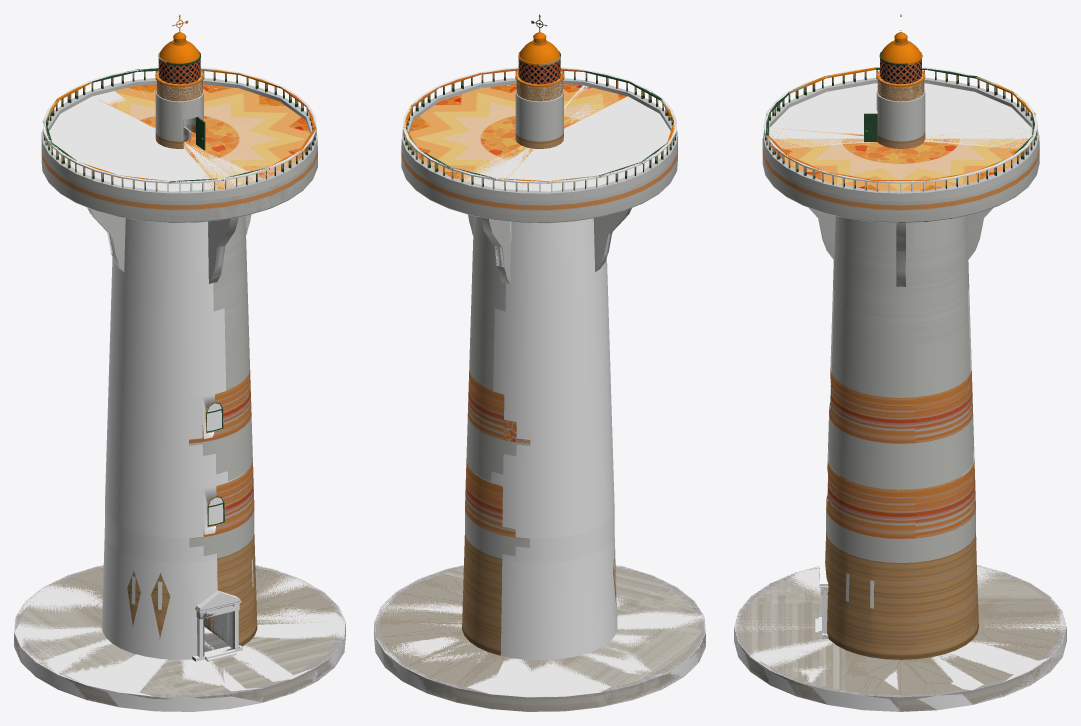
The model's file is objects_un_lighthouse03.gltf.
3 renders of one model, left to right at view 1: azimuth 30°, elevation 25°; view 2: azimuth 150°, elevation 25°; view 3: azimuth 270°, elevation 25°, orthographic.
Parts seen in each view (by area): view 1: um_objects_un_lighthouse03_model_lod0Shape:objects_un_lighth (×8), um_objects_un_lighthouse03_model_lod1Shape:objects_un_lighth (×3), um_objects_un_lighthouse03_model_lod2Shape:objects_un_lighth (×4), nomerge_objects_un_lighthouse03_top_shape:objects_un_lightho (×3), nomerge_lenslight_model_shape:objects_un_lighthouse03_obj01_; view 2: um_objects_un_lighthouse03_model_lod0Shape:objects_un_lighth (×8), um_objects_un_lighthouse03_model_lod2Shape:objects_un_lighth (×4), um_objects_un_lighthouse03_model_lod1Shape:objects_un_lighth (×3), nomerge_objects_un_lighthouse03_top_shape:objects_un_lightho (×3), nomerge_lenslight_model_shape:objects_un_lighthouse03_obj01_; view 3: um_objects_un_lighthouse03_model_lod0Shape:objects_un_lighth (×8), um_objects_un_lighthouse03_model_lod1Shape:objects_un_lighth (×4), um_objects_un_lighthouse03_model_lod2Shape:objects_un_lighth (×4), nomerge_objects_un_lighthouse03_top_shape:objects_un_lightho (×3), nomerge_lenslight_model_shape:objects_un_lighthouse03_obj01_.
Part boxes in pixels (x1,y1,x2,y2): um_objects_un_lighthouse03_model_lod0Shape:objects_un_lighth (×8): (14, 22, 345, 711); um_objects_un_lighthouse03_model_lod1Shape:objects_un_lighth (×3): (20, 78, 330, 694); um_objects_un_lighthouse03_model_lod2Shape:objects_un_lighth (×4): (14, 68, 345, 699); nomerge_objects_un_lighthouse03_top_shape:objects_un_lightho (×3): (155, 14, 205, 150); nomerge_lenslight_model_shape:objects_un_lighthouse03_obj01_: (158, 59, 200, 84); um_objects_un_lighthouse03_model_lod0Shape:objects_un_lighth (×8): (374, 22, 705, 711); um_objects_un_lighthouse03_model_lod2Shape:objects_un_lighth (×4): (384, 68, 704, 693); um_objects_un_lighthouse03_model_lod1Shape:objects_un_lighth (×3): (380, 78, 698, 665); nomerge_objects_un_lighthouse03_top_shape:objects_un_lightho (×3): (515, 14, 563, 148); nomerge_lenslight_model_shape:objects_un_lighthouse03_obj01_: (518, 59, 560, 84); um_objects_un_lighthouse03_model_lod0Shape:objects_un_lighth (×8): (734, 67, 1066, 711); um_objects_un_lighthouse03_model_lod1Shape:objects_un_lighth (×4): (735, 78, 1061, 697); um_objects_un_lighthouse03_model_lod2Shape:objects_un_lighth (×4): (735, 67, 1066, 699); nomerge_objects_un_lighthouse03_top_shape:objects_un_lightho (×3): (864, 14, 925, 148); nomerge_lenslight_model_shape:objects_un_lighthouse03_obj01_: (880, 59, 921, 84).
Size of what is drawn, in the model's own units: 24.45 by 50.89 by 24.45.
12 materials, 9 textured.
